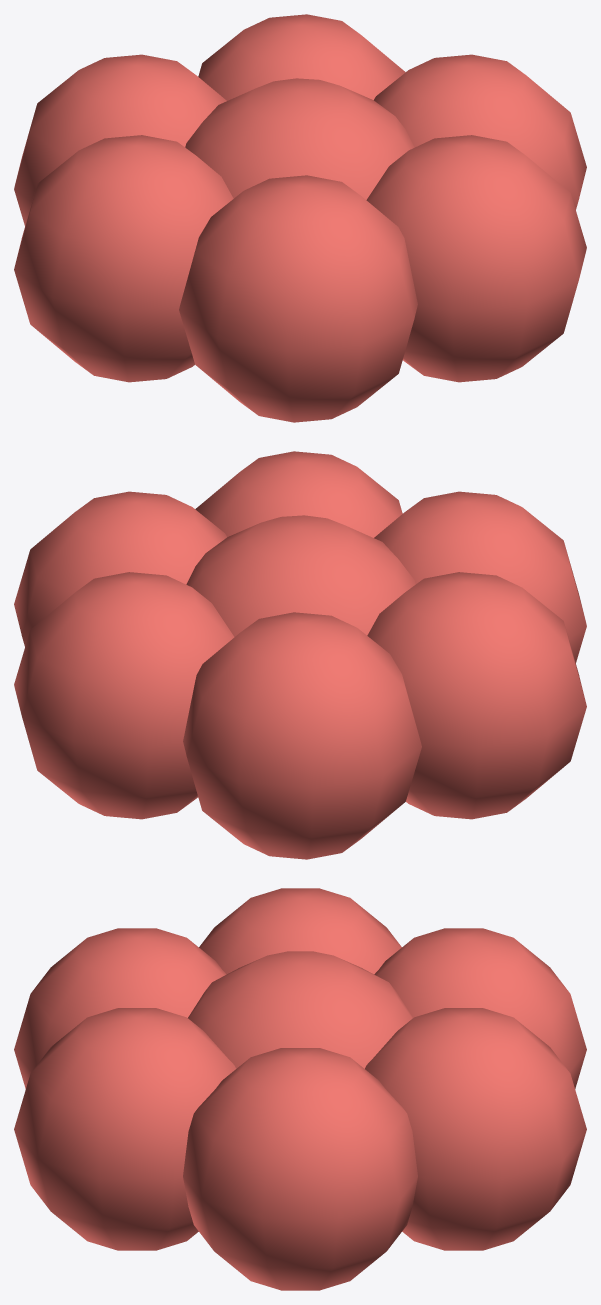
File: opera_candymaker_candy_4.glb
The picture shows the model from 3 angles, top to bottom: view 1: azimuth 30°, elevation 25°; view 2: azimuth 150°, elevation 25°; view 3: azimuth 270°, elevation 25°; orthographic projection.
Visible parts, largest first — view 1: VisualMesh.005; view 2: VisualMesh.005; view 3: VisualMesh.005.
Boxes of the visible parts, box(x1,y1,x2,y2) form: VisualMesh.005: box(14, 14, 586, 422); VisualMesh.005: box(14, 451, 586, 859); VisualMesh.005: box(14, 888, 586, 1290).
Size of the model in its own units: 3.08 by 1.4 by 2.89.
